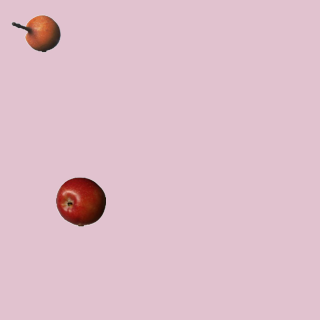Apple Braeburn: (55, 176, 105, 226)
Granadilla: (10, 8, 60, 58)
